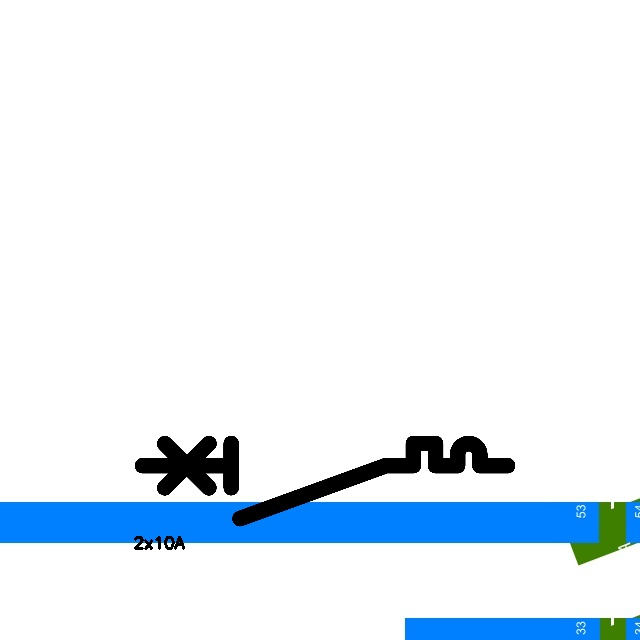interruptor_termomagnetico: (133, 434, 517, 528)
